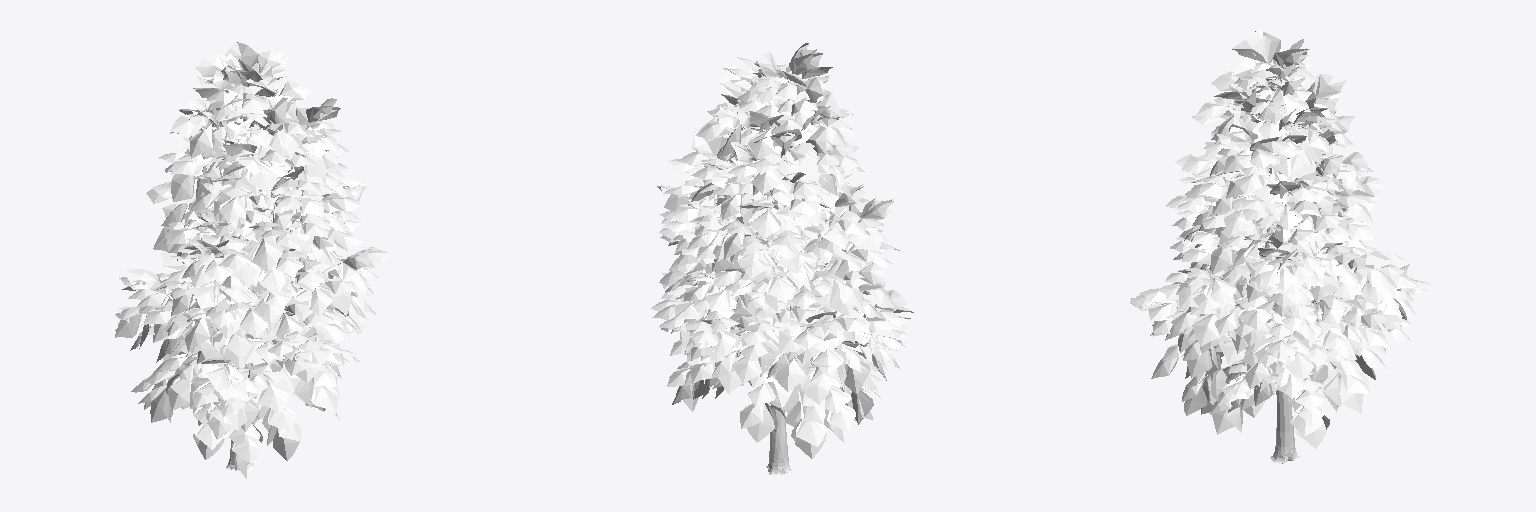
File: Tree.obj
3 renders of one model, left to right at view 1: azimuth 30°, elevation 25°; view 2: azimuth 150°, elevation 25°; view 3: azimuth 270°, elevation 25°, orthographic.
Parts seen in each view (by area): view 1: g2; view 2: g2, g1; view 3: g2, g1.
Part boxes in pixels (x1,y1,x2,y2): g2: (115,41,390,478); g2: (650,43,913,458); g1: (714,71,871,475); g2: (1130,29,1430,448); g1: (1178,87,1316,463).
Size of the model in its own units: 4.24 by 7.59 by 4.99.